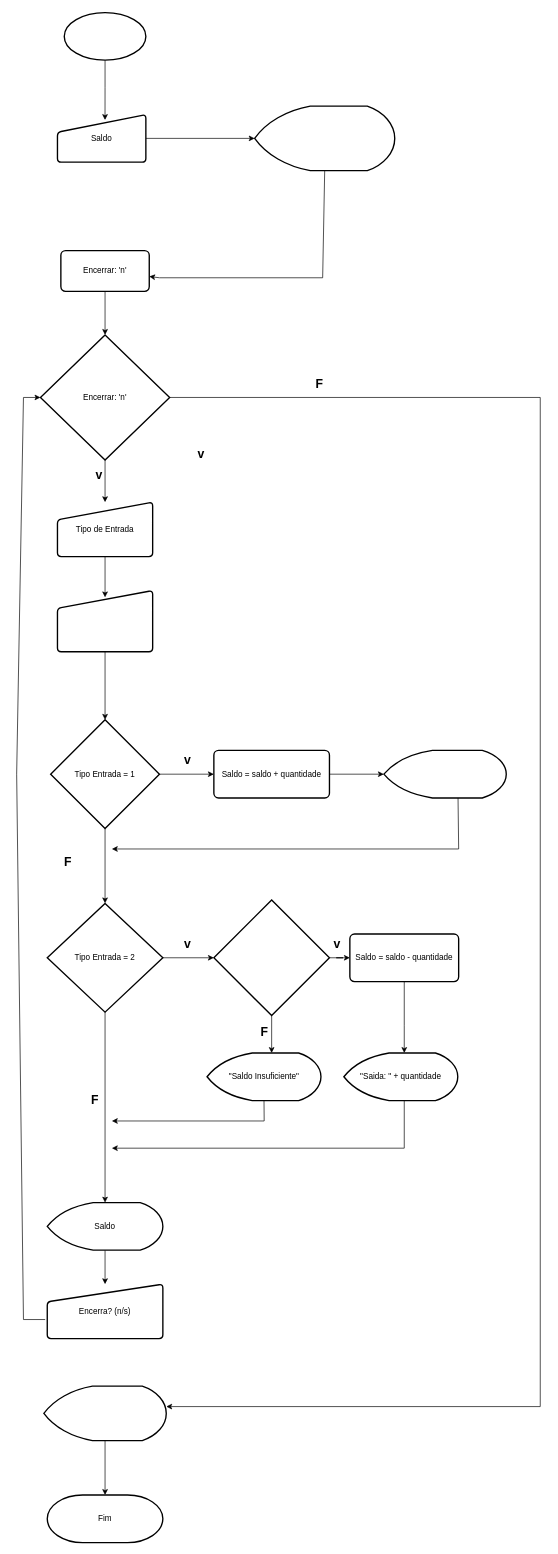
The diagram is 558 pixels wide and 1554 high, and some of its shapes have lost their labels. The shapes that lost their labels are listed below. From the top down, each one's box as (x1, y1, x2, y2) in pixels, then its label:
(63, 12, 146, 61): Inicio
(254, 105, 395, 171): Saldo Inicial: "+ Saldo
(56, 590, 153, 652): Quantidade
(383, 749, 507, 798): "Entrada: " + quantidade
(213, 899, 330, 1016): Saldo >= quantidade
(43, 1385, 167, 1441): "Sistema Encerrado"
